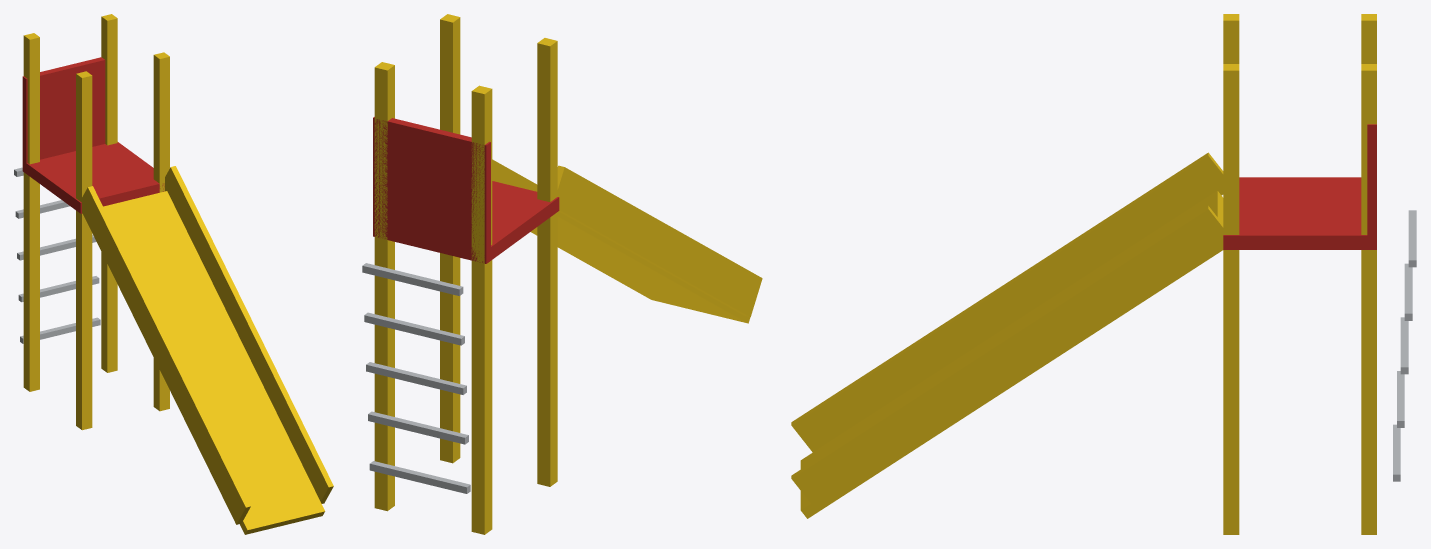
Rendered from sb_slide.glb.
The picture shows the model from 3 angles, left to right: view 1: azimuth 30°, elevation 25°; view 2: azimuth 150°, elevation 25°; view 3: azimuth 270°, elevation 25°; orthographic projection. The views are drawn at different scales.
Parts seen in each view (by area): view 1: sb_slide; view 2: sb_slide; view 3: sb_slide.
Boxes of the visible parts, x1,y1,x2,y2 form: sb_slide: (14,14,333,534); sb_slide: (362,14,762,534); sb_slide: (791,14,1416,534).
Bounding box in the file's own units: 0.7 × 2.6 × 3.17.
